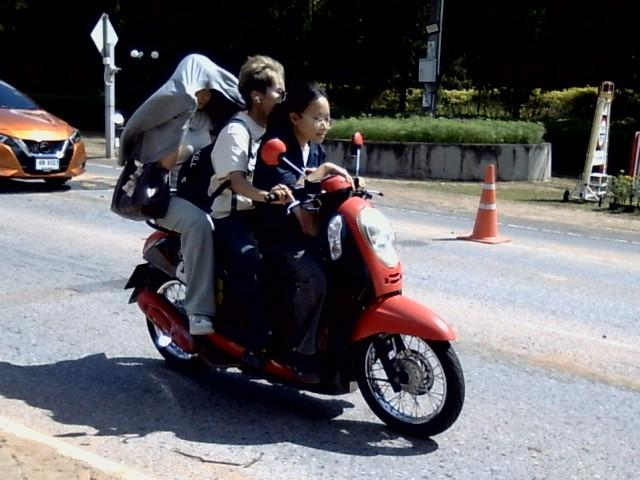motor: (246, 175, 464, 437), (123, 221, 247, 370)
no-helmet: (241, 51, 288, 128), (175, 51, 226, 119), (281, 85, 334, 141)
person: (254, 83, 353, 381), (209, 55, 285, 364), (119, 53, 244, 169), (158, 197, 215, 334)
